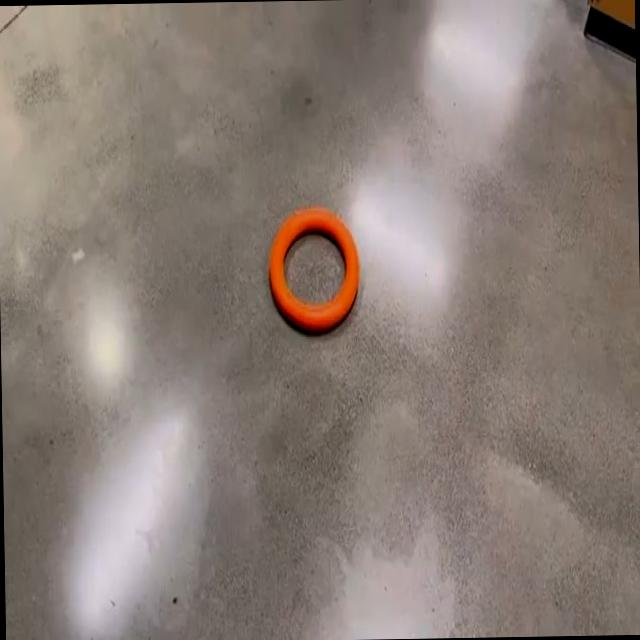note: (269, 207, 359, 330)
